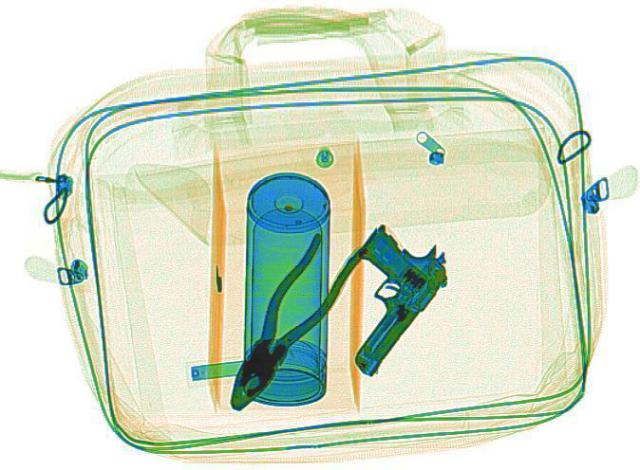Gun: (284, 220, 466, 375)
Pliers: (204, 229, 368, 417)
